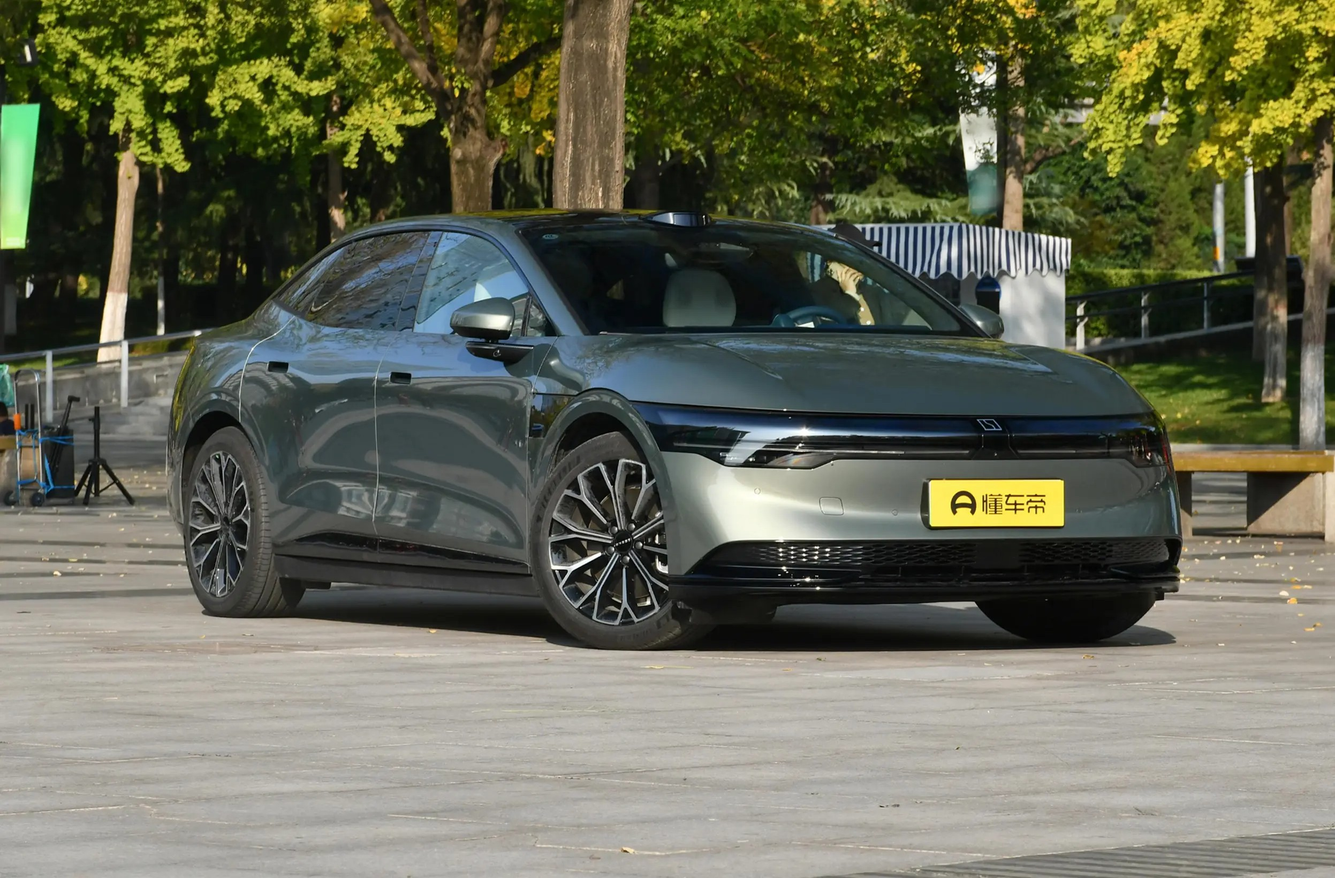ZEEKR: (977, 419, 1002, 430)
